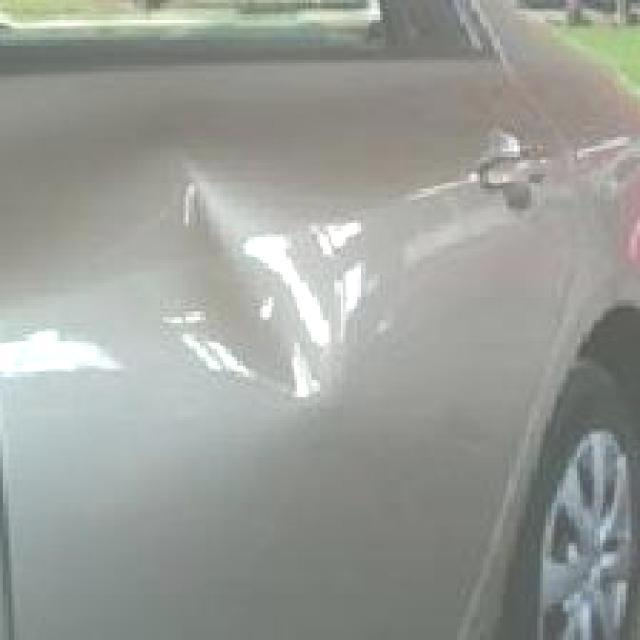minor: (89, 138, 407, 430)
